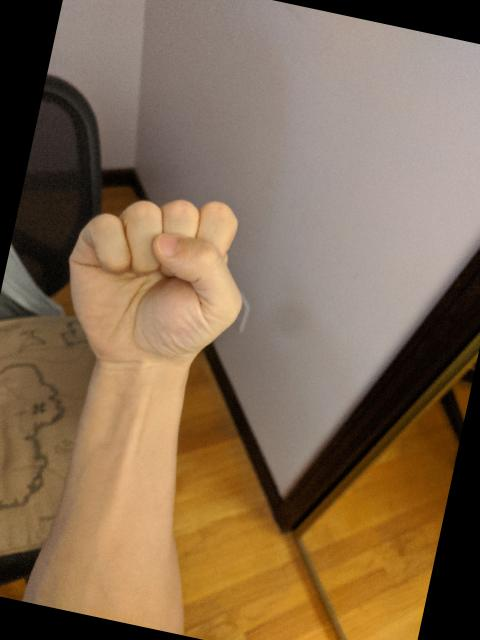S: (44, 168, 268, 390)
